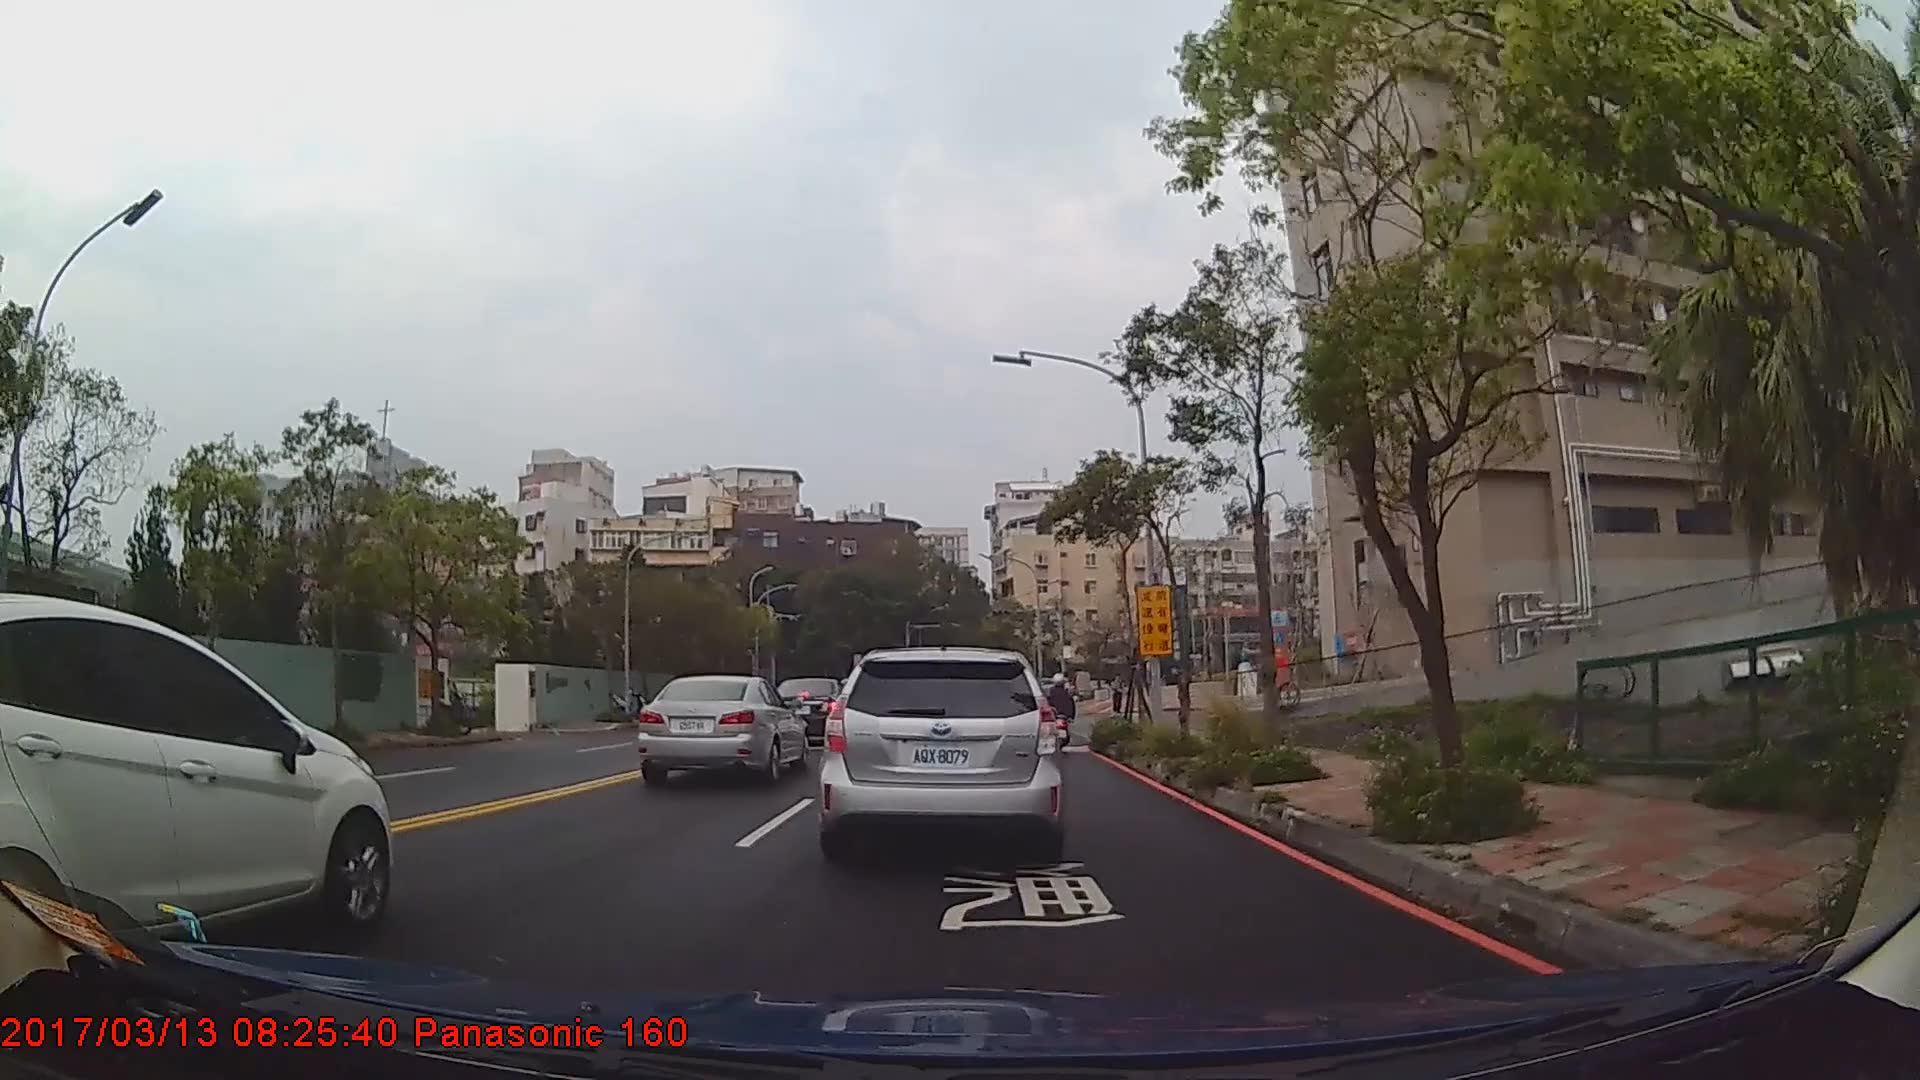rider: (1048, 676, 1078, 753)
vehicle: (0, 590, 393, 970), (821, 647, 1066, 853), (636, 675, 808, 787), (770, 676, 855, 744)
